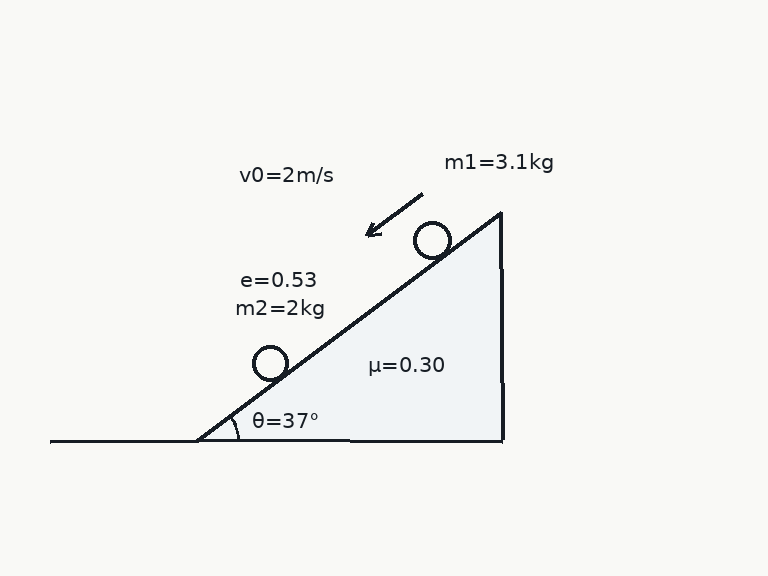ball: (411, 219, 453, 261), (250, 343, 290, 383)
ramp: (196, 209, 503, 442)
